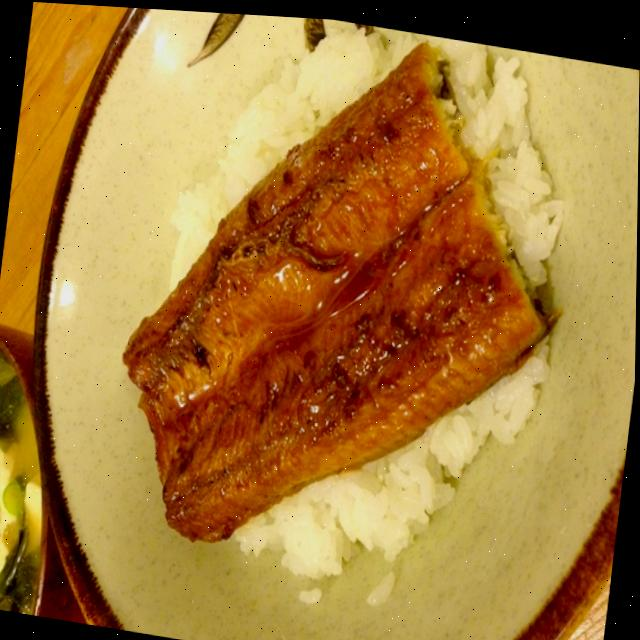熟制海鲜: (104, 13, 584, 600)
